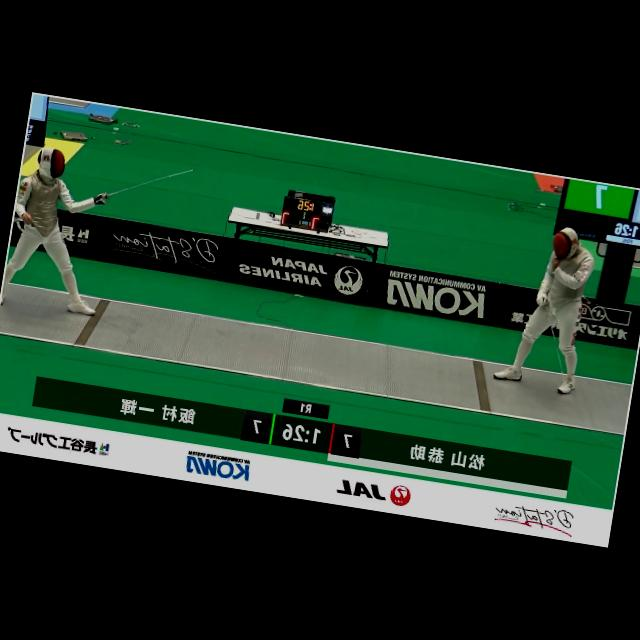blade: (95, 151, 198, 220), (526, 297, 580, 389)
